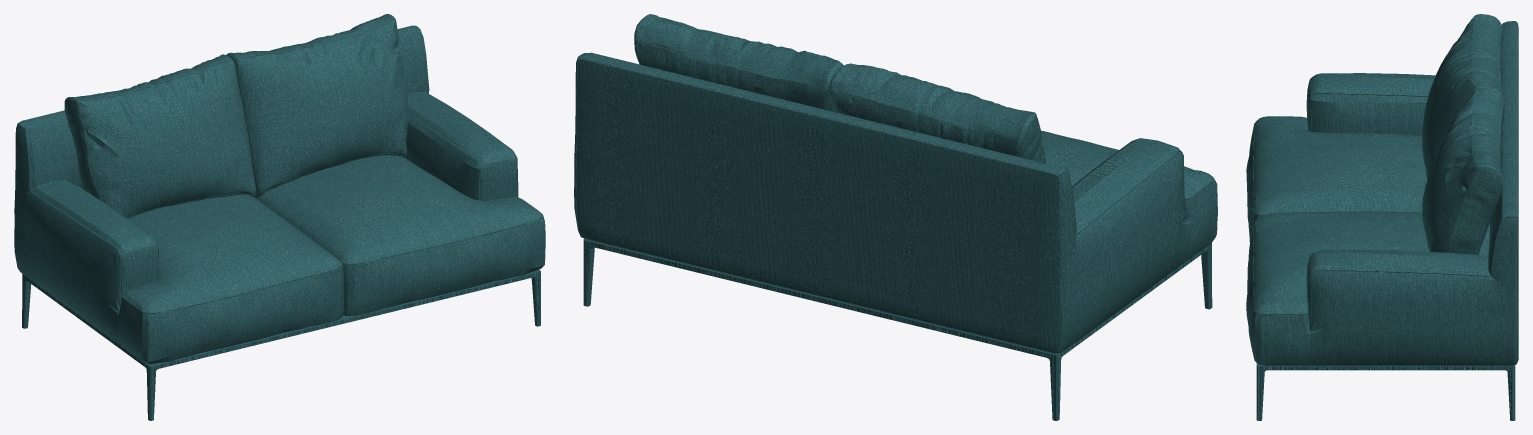
The model's file is Sofa_Cape_Town.fbx.
3 views of the same model, side by side, from view 1: azimuth 30°, elevation 25°; view 2: azimuth 150°, elevation 25°; view 3: azimuth 270°, elevation 25° (orthographic). The views are drawn at different scales.
Visible parts, largest first — view 1: ID282; view 2: ID282; view 3: ID282.
Boxes of the visible parts, box(x1,y1,x2,y2) form: ID282: box(14, 14, 545, 420); ID282: box(574, 14, 1217, 420); ID282: box(1246, 14, 1518, 420).
Size of the model in its own units: 631 by 344 by 356.
